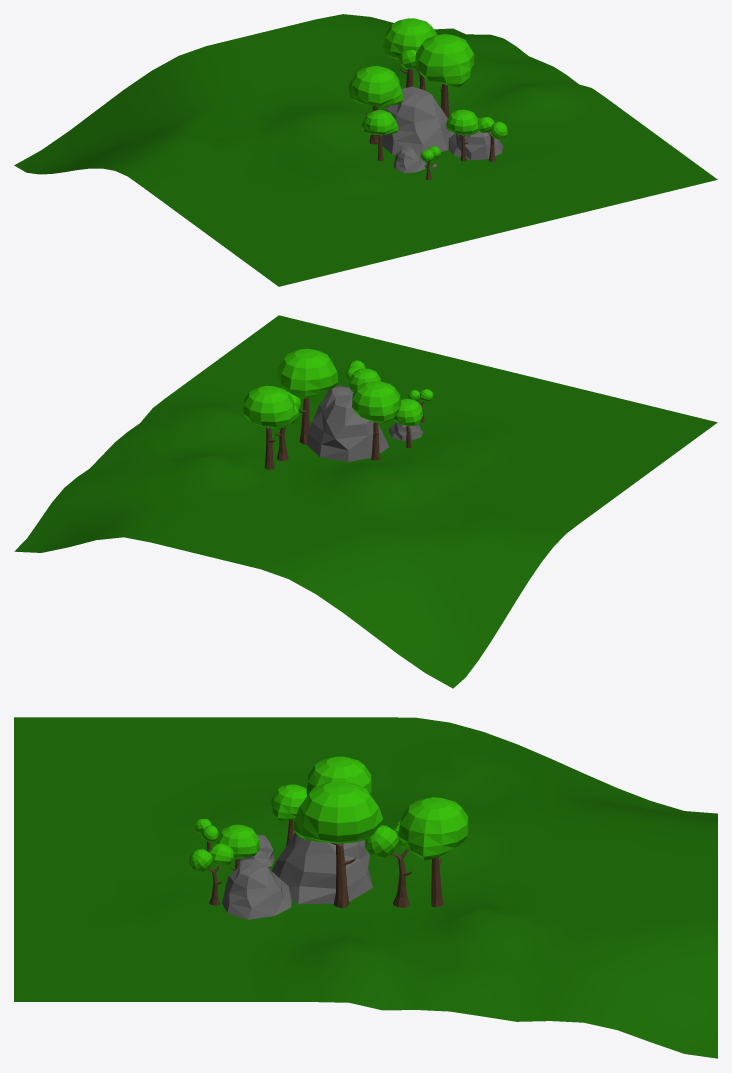
The model's file is terrain_pirate.dae.
3 renders of one model, top to bottom at view 1: azimuth 30°, elevation 25°; view 2: azimuth 150°, elevation 25°; view 3: azimuth 270°, elevation 25°, orthographic. The views are drawn at different scales.
Parts seen in each view (by area): view 1: terrain, rock, tree.002, tree.005, tree.006, tree.004, tree, tree.003; view 2: terrain, rock, tree.002, tree.006, tree.005, tree.004; view 3: terrain, rock, tree.002, tree.006, tree.005, tree.007, tree.003, tree, tree.004.
Boxes of the visible parts, x1,y1,x2,y2 form: terrain: (14, 14, 717, 286); rock: (382, 86, 503, 173); tree.002: (415, 34, 474, 118); tree.005: (348, 66, 403, 144); tree.006: (383, 18, 437, 87); tree.004: (362, 110, 398, 160); tree: (446, 109, 478, 161); tree.003: (478, 116, 507, 162); terrain: (14, 315, 717, 688); rock: (306, 385, 422, 461); tree.002: (277, 348, 337, 444); tree.006: (243, 385, 295, 469); tree.005: (352, 381, 400, 460); tree.004: (393, 398, 422, 447); terrain: (14, 717, 717, 1058); rock: (222, 832, 373, 919); tree.002: (293, 781, 383, 908); tree.006: (398, 797, 468, 907); tree.005: (306, 756, 371, 795); tree.007: (364, 820, 412, 907); tree.003: (189, 843, 233, 905); tree: (216, 824, 259, 870); tree.004: (270, 784, 306, 845).
Size of the model in its own units: 42.48 by 44.38 by 14.89.
Materials: 5 (1 with a texture image).
